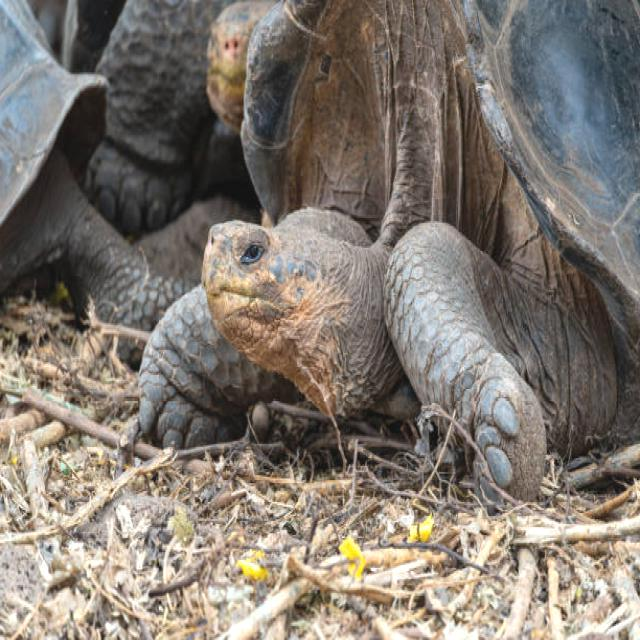tortoise: (112, 0, 640, 510)
